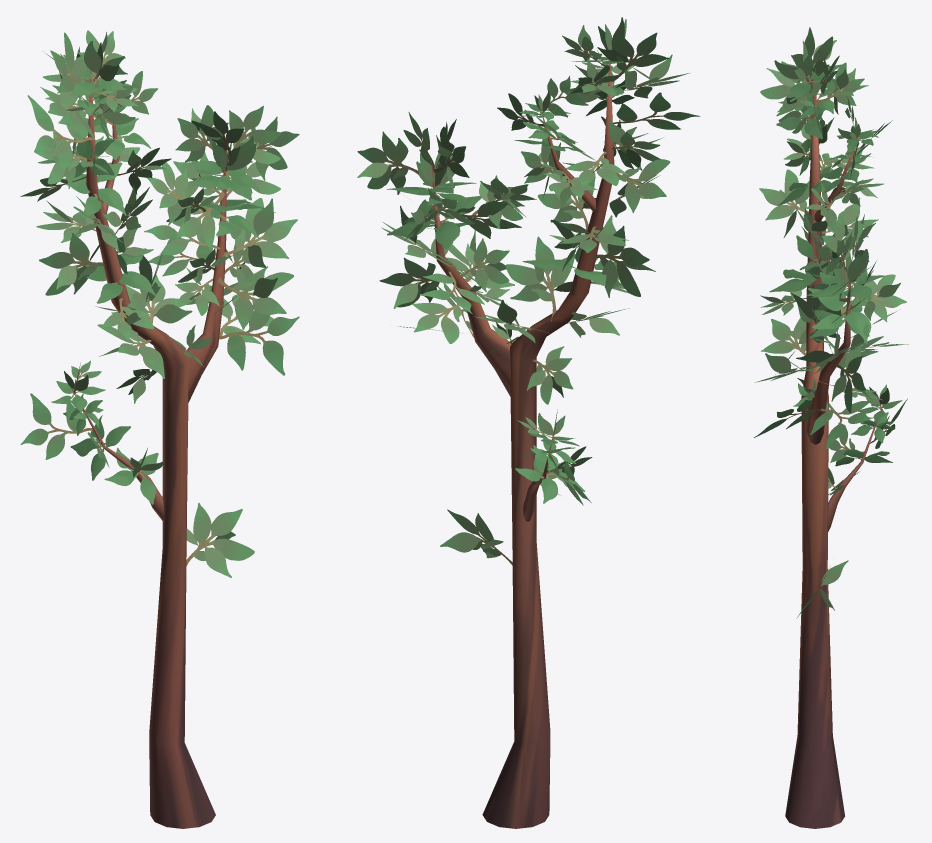
File: Minitree_02.fbx
3 views of the same model, side by side, from view 1: azimuth 30°, elevation 25°; view 2: azimuth 150°, elevation 25°; view 3: azimuth 270°, elevation 25° (orthographic). The views are drawn at different scales.
Visible parts, largest first — view 1: Minitree_leaf_02, Minitree_02; view 2: Minitree_leaf_02, Minitree_02; view 3: Minitree_leaf_02, Minitree_02.
Part boxes in pixels (x1,y1,x2,y2): Minitree_leaf_02: (20, 30, 299, 577); Minitree_02: (71, 70, 226, 828); Minitree_leaf_02: (357, 17, 700, 565); Minitree_02: (431, 60, 614, 828); Minitree_leaf_02: (754, 27, 908, 618); Minitree_02: (785, 68, 882, 828).
Size of the model in its own units: 93.47 by 231 by 48.89.
